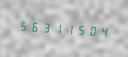five: (17, 16, 27, 34), (72, 20, 82, 38)
four: (94, 22, 104, 39)
one: (61, 19, 71, 37), (50, 19, 60, 36)
six: (28, 17, 38, 35)
three: (39, 18, 49, 35)
zero: (83, 21, 93, 39)
